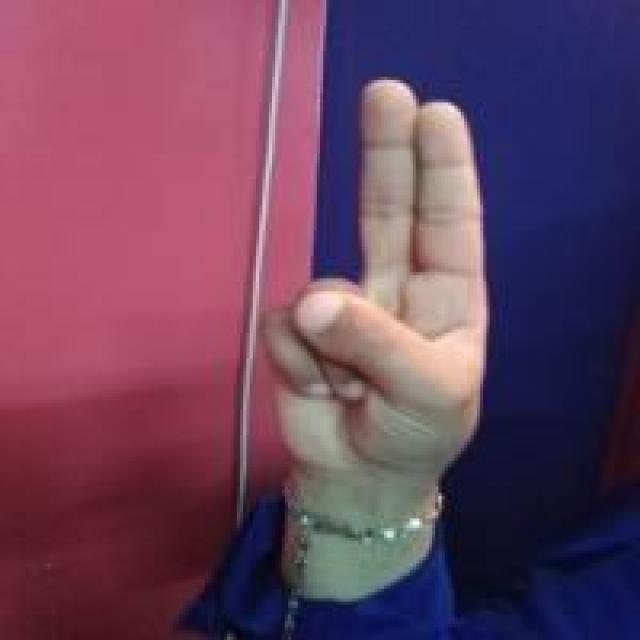U: (258, 64, 488, 518)
